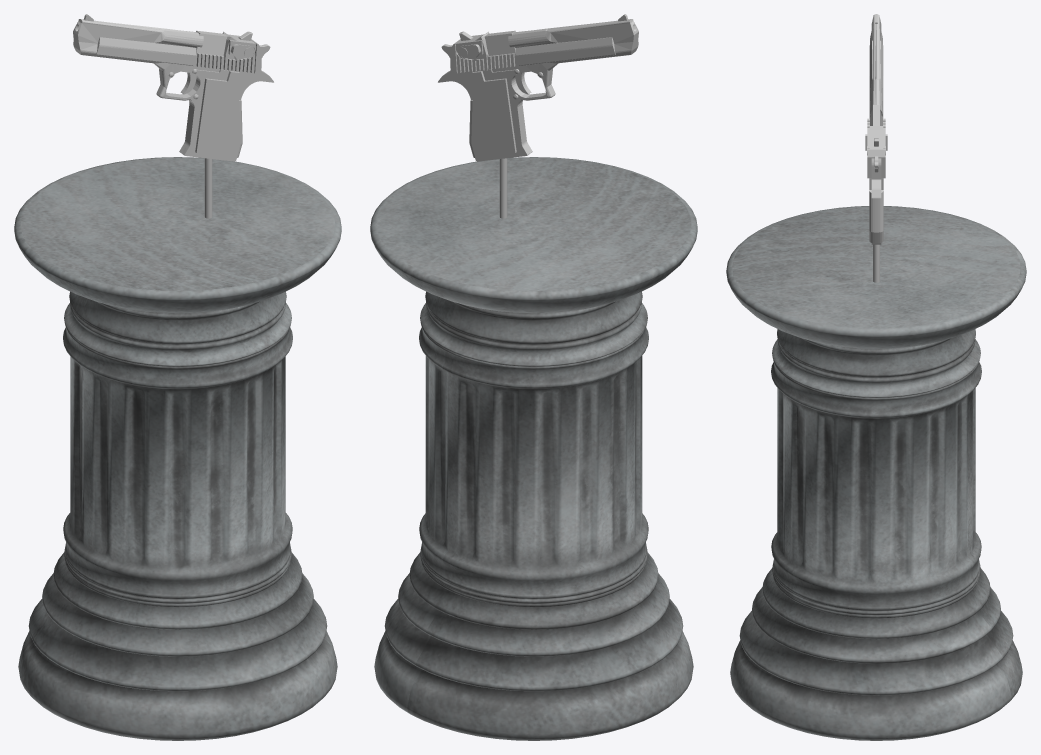
Rendered from DeaglePedestal.fbx.
3 views of the same model, side by side, from view 1: azimuth 30°, elevation 25°; view 2: azimuth 150°, elevation 25°; view 3: azimuth 270°, elevation 25° (orthographic). The views are drawn at different scales.
Visible parts, largest first — view 1: Cylinder.001, Cylinder.007; view 2: Cylinder.001, Cylinder.007; view 3: Cylinder.001, Cylinder.007.
Boxes of the visible parts, x1=… form: Cylinder.001: x1=14, y1=157, x2=341, y2=740; Cylinder.007: x1=73, y1=14, x2=273, y2=218; Cylinder.001: x1=370, y1=157, x2=697, y2=740; Cylinder.007: x1=438, y1=14, x2=638, y2=218; Cylinder.001: x1=726, y1=206, x2=1026, y2=740; Cylinder.007: x1=865, y1=14, x2=887, y2=282.
Size of the model in its own units: 221 by 510 by 221.
